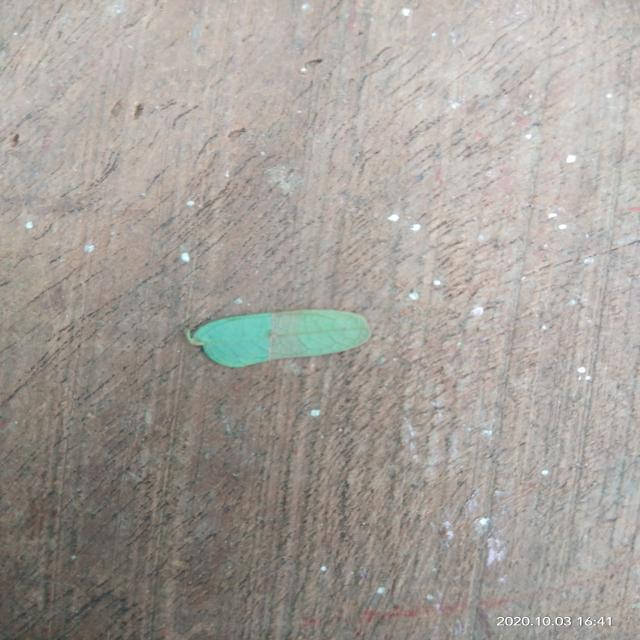defectedtamarind: (268, 310, 308, 360)
tamarind: (187, 310, 370, 368)
